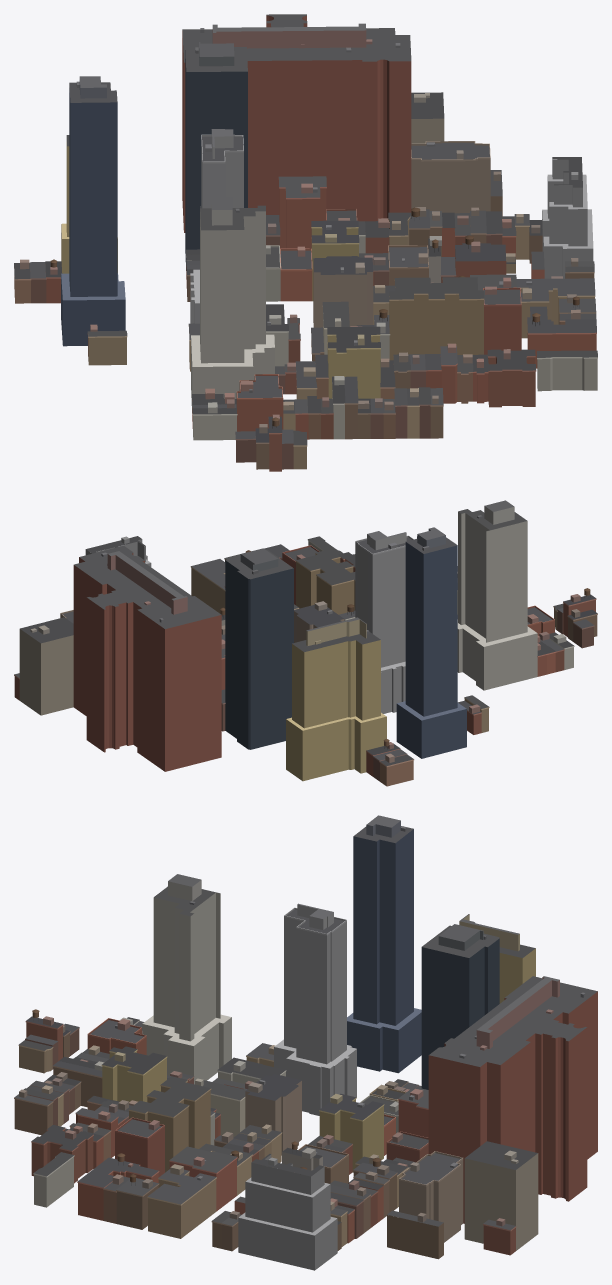
Rendered from 6_-1.bld.glb.
The picture shows the model from 3 angles, top to bottom: view 1: azimuth 30°, elevation 25°; view 2: azimuth 150°, elevation 25°; view 3: azimuth 270°, elevation 25°; orthographic projection. The views are drawn at different scales.
Visible parts, largest first — view 1: 6_-1; view 2: 6_-1; view 3: 6_-1.
Part boxes in pixels (x1,y1,x2,y2): 6_-1: [14, 14, 597, 471]; 6_-1: [14, 500, 597, 786]; 6_-1: [14, 815, 597, 1270].
Bounding box in the file's own units: 281 × 135 × 302.
